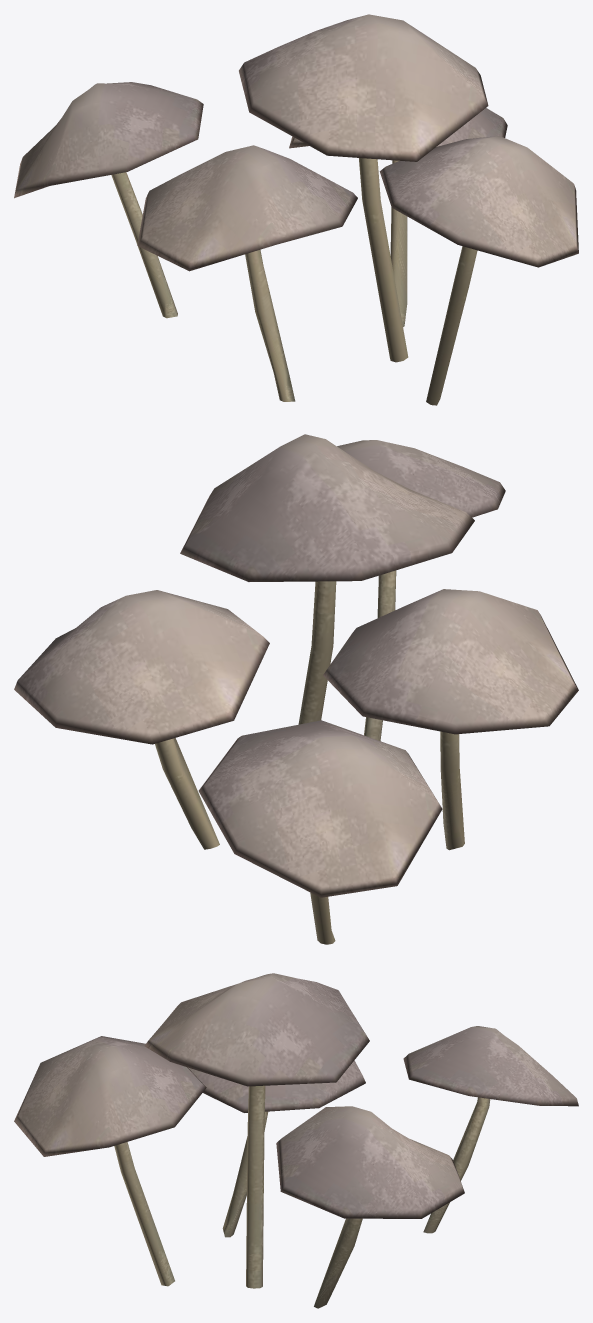
Rendered from Mushroom_Common.glb.
The picture shows the model from 3 angles, top to bottom: view 1: azimuth 30°, elevation 25°; view 2: azimuth 150°, elevation 25°; view 3: azimuth 270°, elevation 25°; orthographic projection. The views are drawn at different scales.
Bounding box in the file's own units: 0.5637 × 0.4635 × 0.7791.
1 material, 1 textured.
